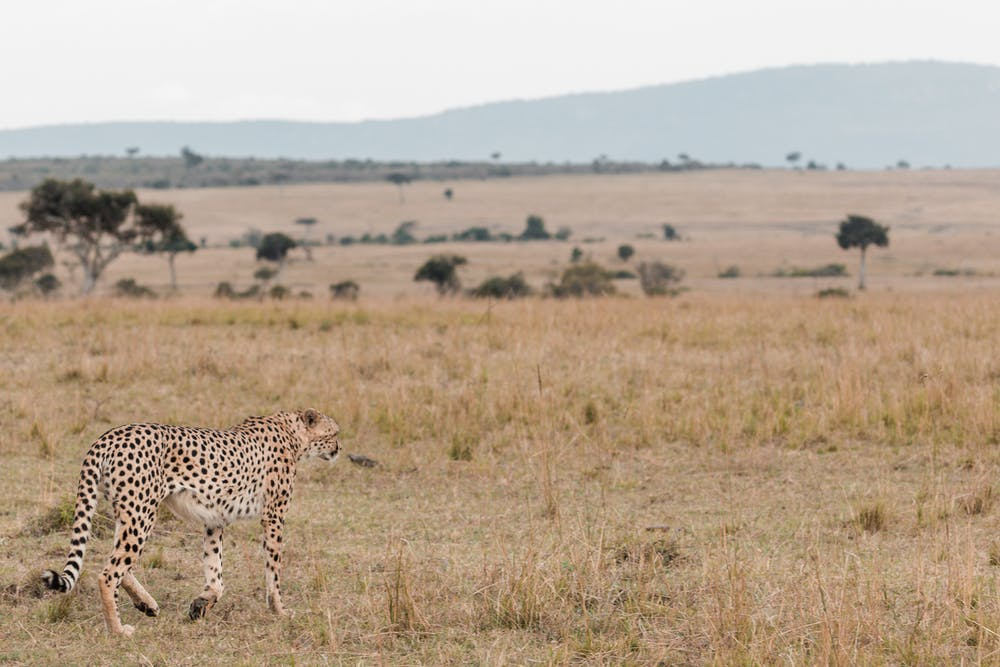cheetah: (273, 401, 344, 468)
